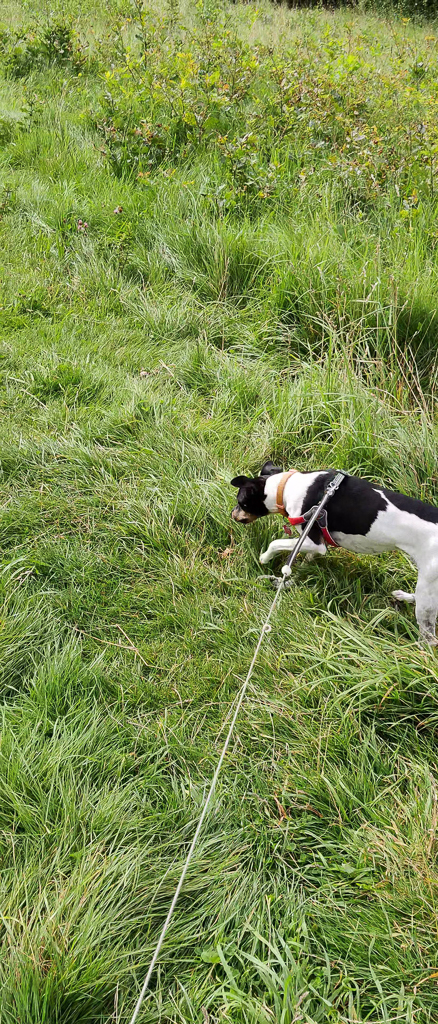Dog: (218, 454, 438, 643)
